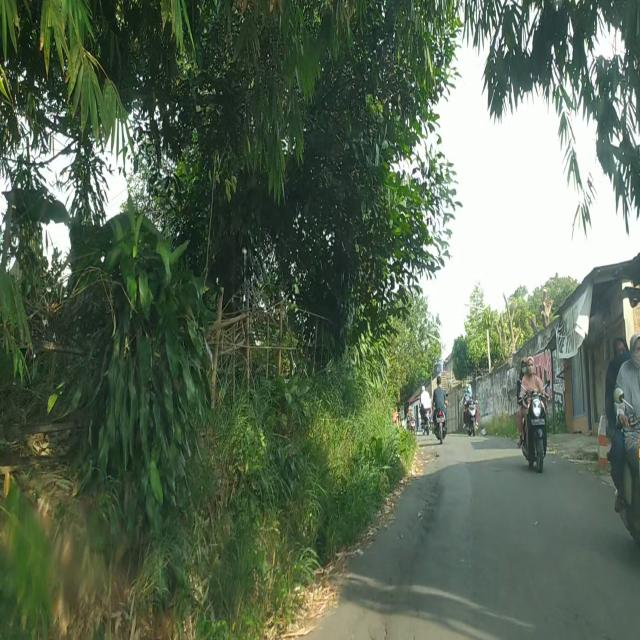Drain Hole: (410, 475, 444, 565)
